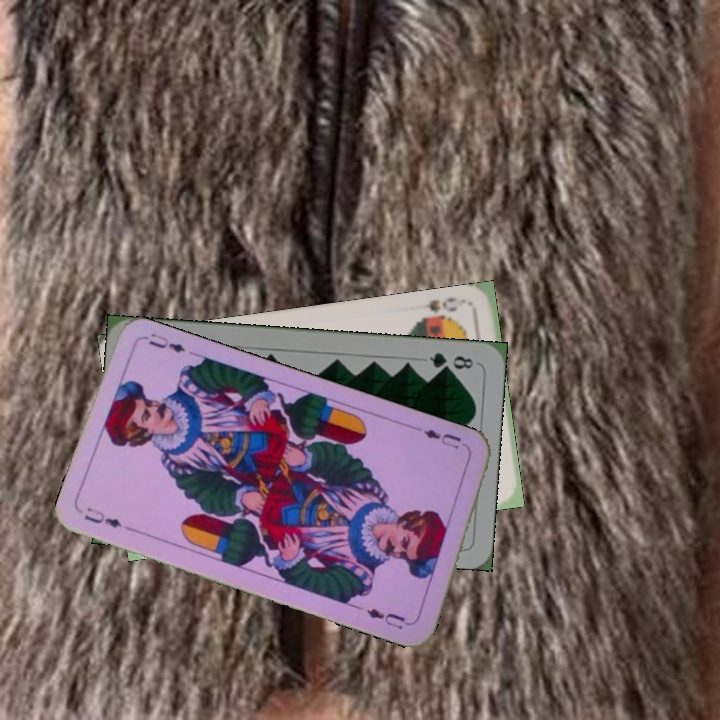EU: (80, 503, 136, 534), (413, 422, 464, 452)
G8: (425, 348, 479, 373)
SO: (411, 293, 459, 325)
